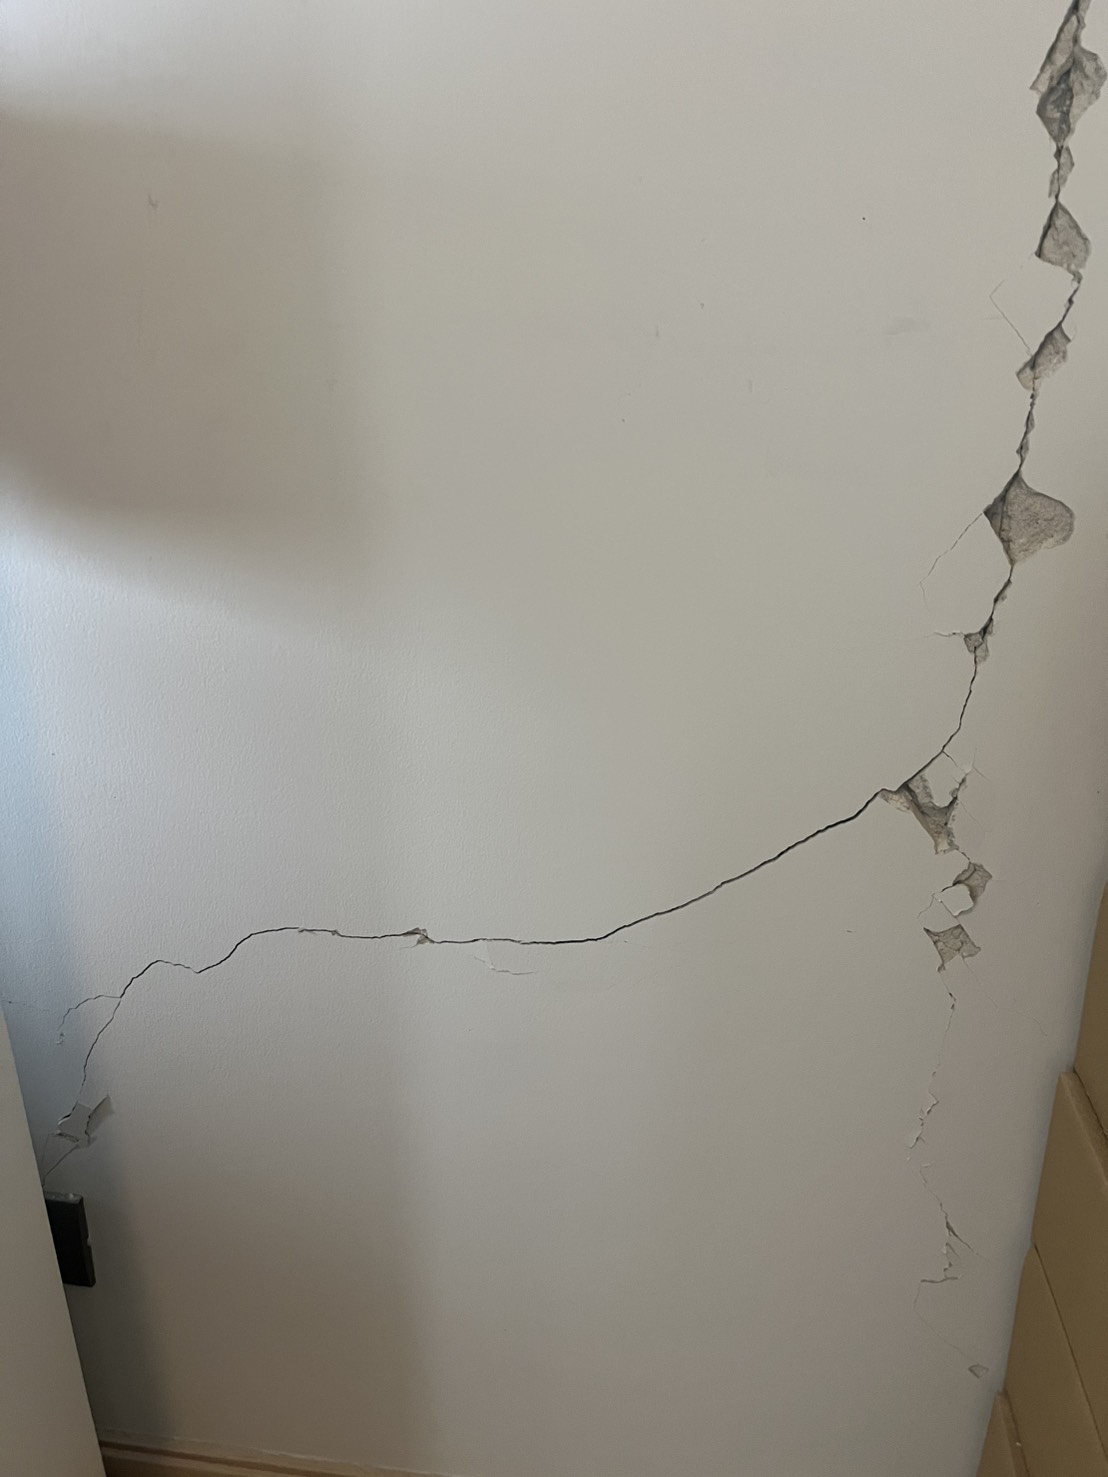High: (6, 3, 1108, 1138)
